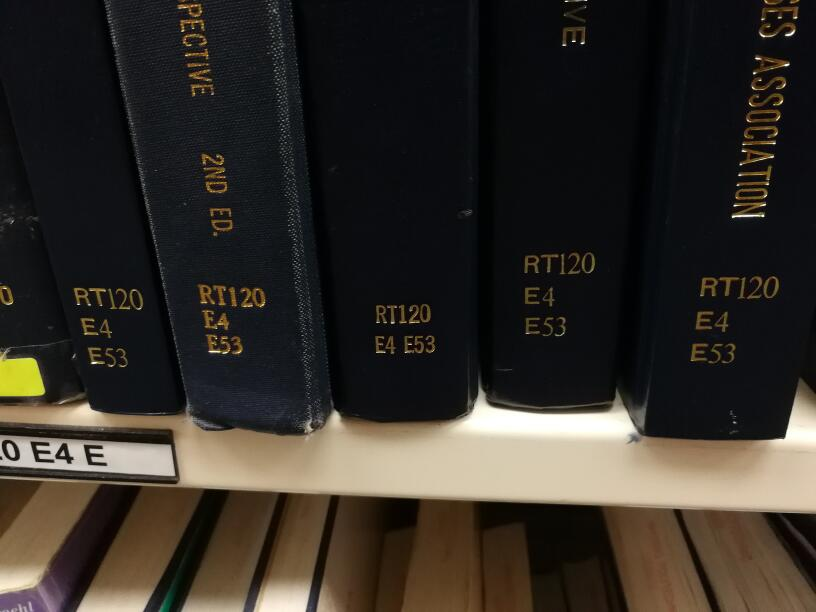booklabel: (688, 271, 786, 370), (519, 247, 604, 344), (70, 281, 149, 374), (192, 278, 272, 363), (369, 299, 440, 362)
